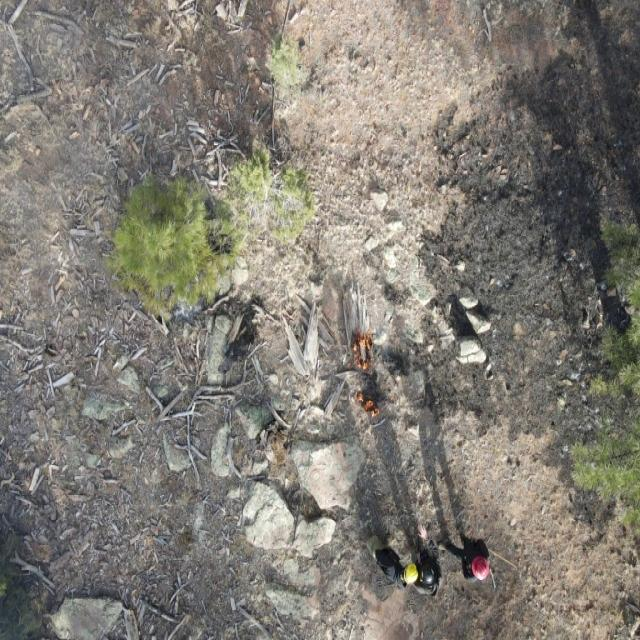fire: (350, 331, 376, 372), (353, 391, 383, 422)
smoke: (0, 0, 129, 261)
